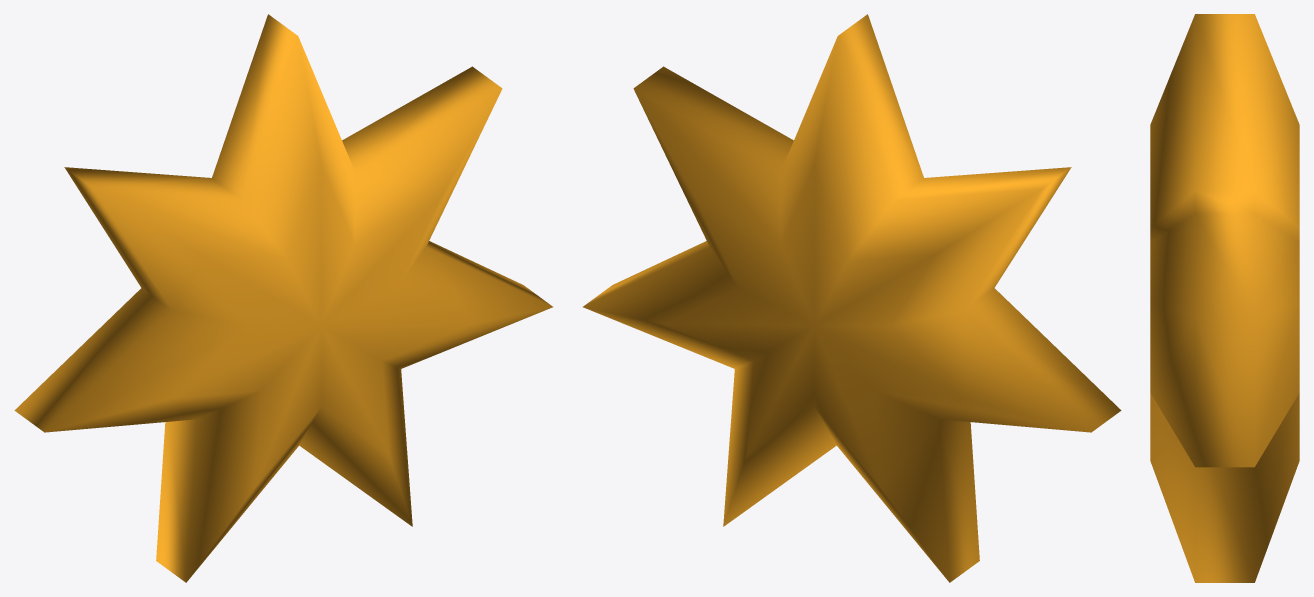
File: 03-STAR-07.fbx
The picture shows the model from 3 angles, left to right: view 1: azimuth 30°, elevation 25°; view 2: azimuth 150°, elevation 25°; view 3: azimuth 270°, elevation 25°; orthographic projection.
Parts seen in each view (by area): view 1: 03-STAR-07; view 2: 03-STAR-07; view 3: 03-STAR-07.
Boxes of the visible parts, x1,y1,x2,y2 form: 03-STAR-07: [14, 14, 552, 582]; 03-STAR-07: [583, 14, 1121, 582]; 03-STAR-07: [1150, 14, 1299, 582].
Size of the model in its own units: 390 by 380 by 100.
